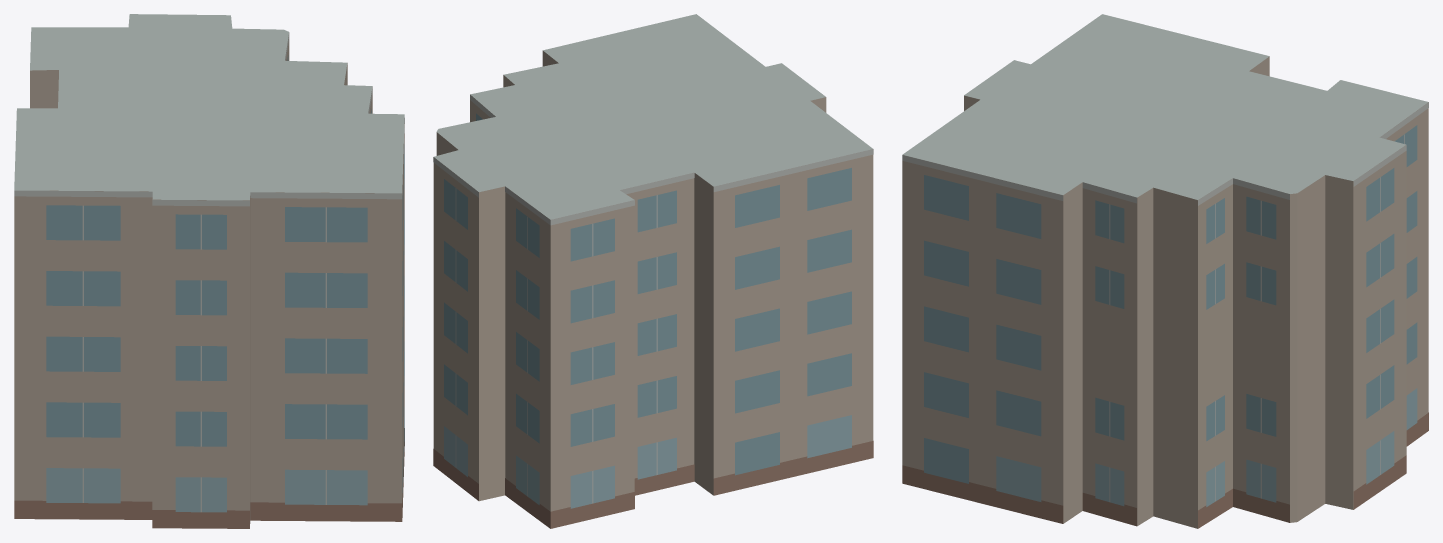
Rendered from survey-upis-32713961.glb.
The picture shows the model from 3 angles, left to right: view 1: azimuth 30°, elevation 25°; view 2: azimuth 150°, elevation 25°; view 3: azimuth 270°, elevation 25°; orthographic projection. The views are drawn at different scales.
Parts seen in each view (by area): view 1: survey-upis-32713961.tmp; view 2: survey-upis-32713961.tmp; view 3: survey-upis-32713961.tmp.
Part boxes in pixels (x1,y1,x2,y2): survey-upis-32713961.tmp: (14,14,404,528); survey-upis-32713961.tmp: (433,14,873,528); survey-upis-32713961.tmp: (902,14,1428,528).
Size of the model in its own units: 16.4 by 13.5 by 19.6.
